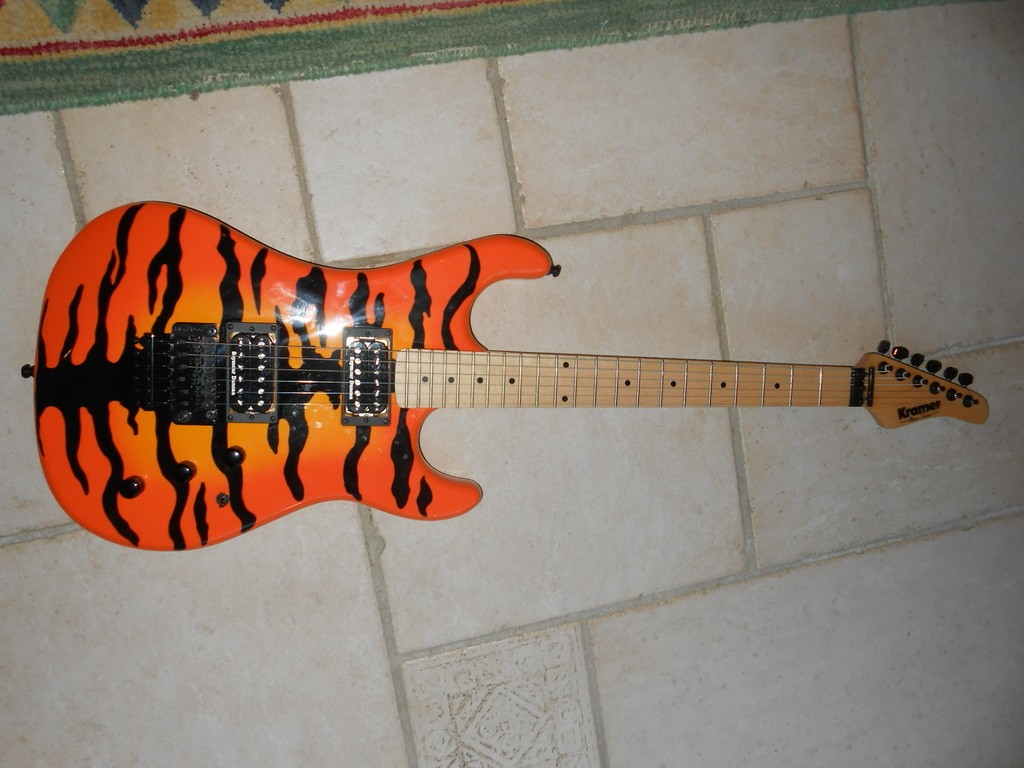guitar: (20, 199, 990, 549)
